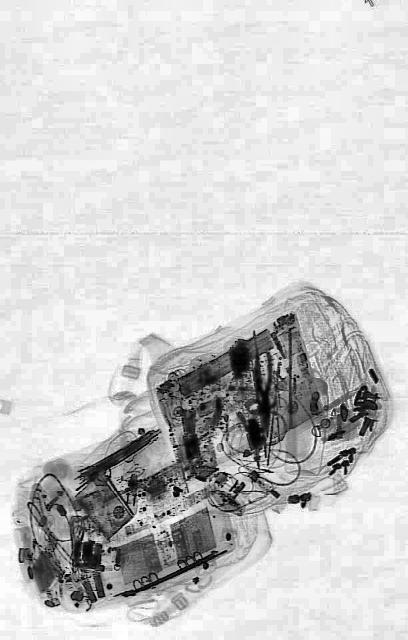Pliers: (254, 353, 274, 439)
